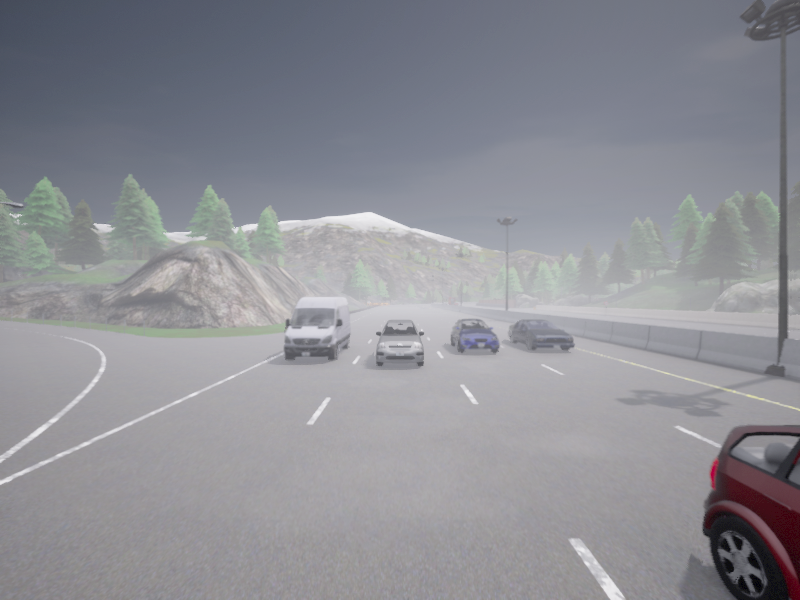vehicle: (702, 425, 799, 599), (284, 297, 350, 360), (376, 319, 423, 366), (507, 319, 574, 350), (450, 319, 499, 352), (447, 297, 454, 304), (452, 302, 457, 305), (443, 302, 447, 304)
